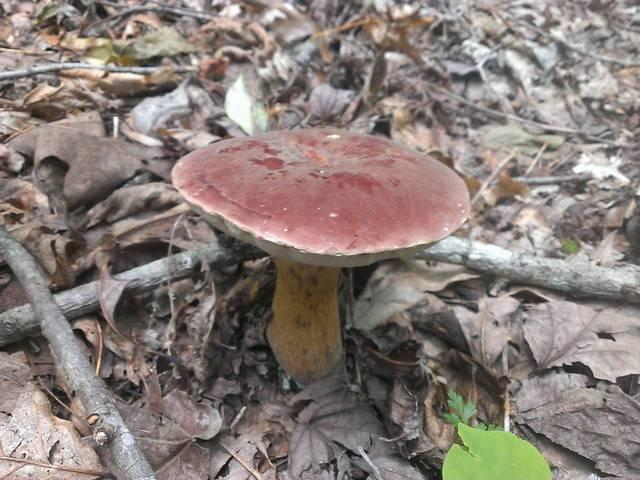Non-edible Mushroom: (169, 124, 471, 386)
